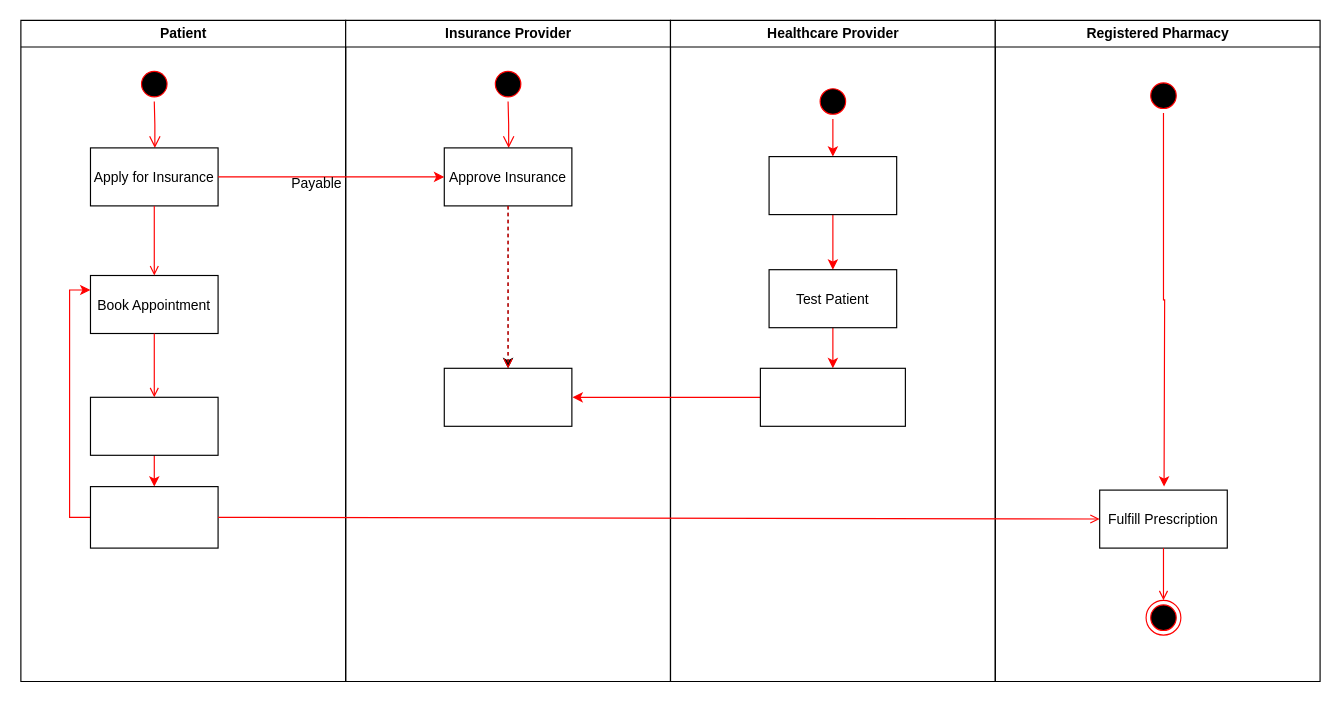
Some shapes in this 1340 by 702 pixel diagram are drawn without their labels. The centre of each missing label's shape, as x and y in pixels:
Claim Insurance: the point at 507,396
Prescribe Medicine Upload prescription to IPFS: the point at 832,396
Review Medical History: the point at 832,185
Update Medical Record: the point at 153,425
Visit Pharmacy: the point at 153,516
